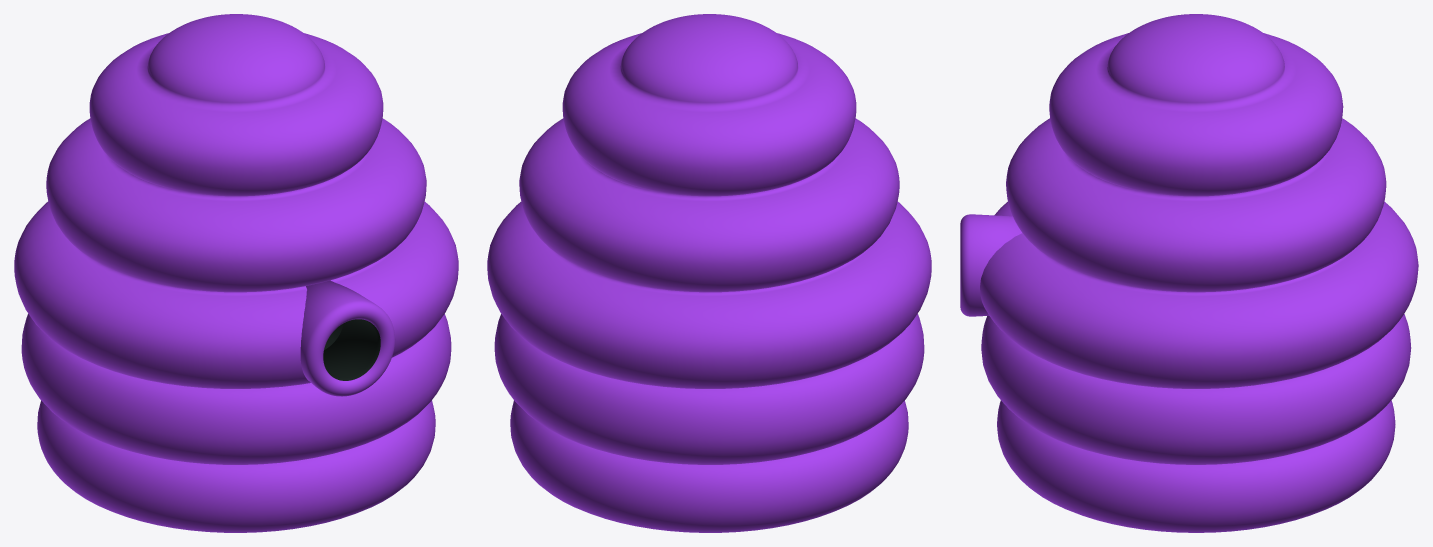
File: Small_Hive_Purple.fbx
3 views of the same model, side by side, from view 1: azimuth 30°, elevation 25°; view 2: azimuth 150°, elevation 25°; view 3: azimuth 270°, elevation 25° (orthographic).
Visible parts, largest first — view 1: Small_Hive_Purple_Body, Small_Hive_Purple_Entrance_Collar; view 2: Small_Hive_Purple_Body; view 3: Small_Hive_Purple_Body, Small_Hive_Purple_Entrance_Collar.
Part boxes in pixels (box(x1,y1,x2,y2)): Small_Hive_Purple_Body: box(14, 14, 458, 532); Small_Hive_Purple_Entrance_Collar: box(300, 280, 395, 396); Small_Hive_Purple_Body: box(487, 14, 931, 532); Small_Hive_Purple_Body: box(980, 14, 1418, 532); Small_Hive_Purple_Entrance_Collar: box(960, 214, 1021, 316).
Size of the model in its own units: 209 by 223 by 215.
